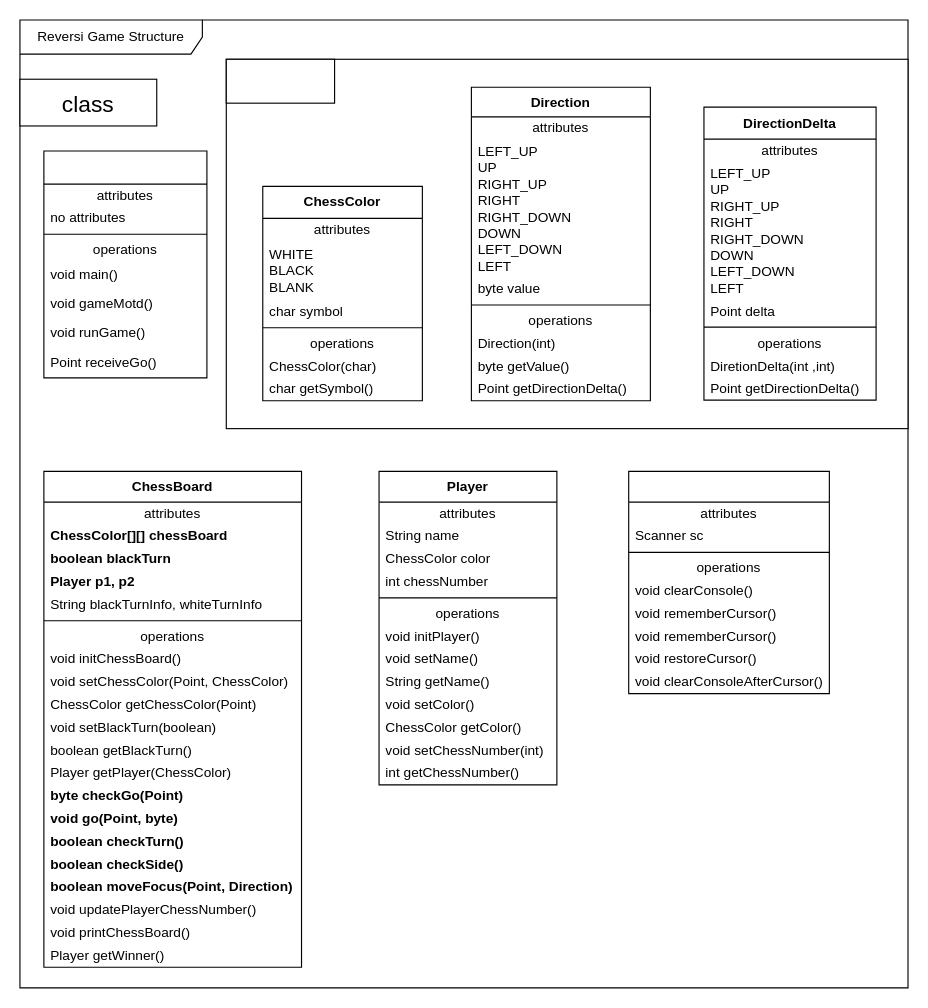
This 928x1008 diagram has some shape labels left out. The shapes that lost their labels are listed below. From the top down, each one's box as (x1, y1, x2, y2) in pixels, then its label:
(225, 58, 335, 103): enum
(43, 150, 207, 378): ReversiGame
(628, 470, 829, 694): PrintTools
